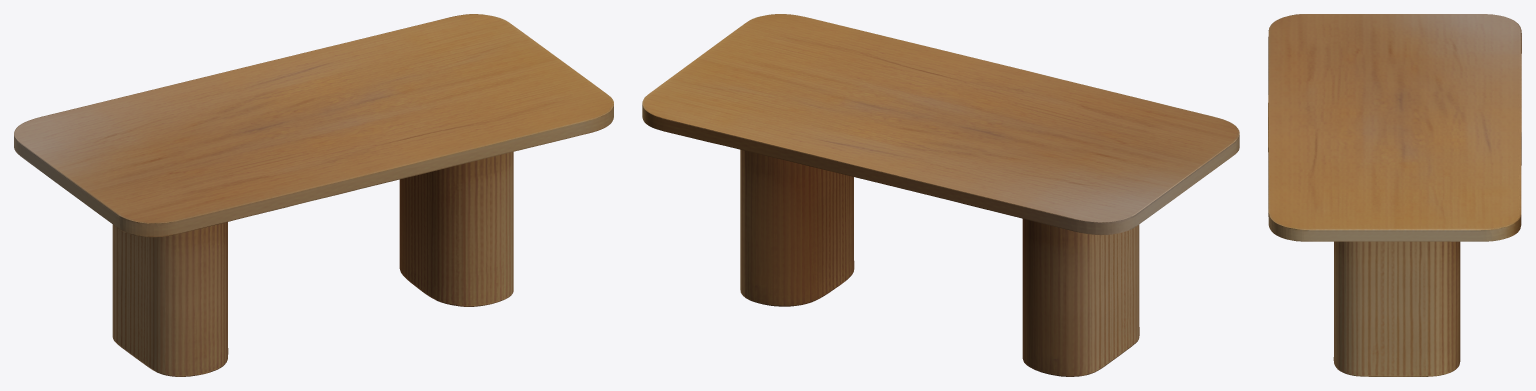
File: MESA DE COMEDOR KAMKO.glb
3 renders of one model, left to right at view 1: azimuth 30°, elevation 25°; view 2: azimuth 150°, elevation 25°; view 3: azimuth 270°, elevation 25°, orthographic. The views are drawn at different scales.
Parts seen in each view (by area): view 1: world; view 2: world; view 3: world.
Boxes of the visible parts, x1,y1,x2,y2 form: world: (14,14,613,376); world: (642,14,1239,376); world: (1268,14,1521,376).
Size of the model in its own units: 1 by 0.3826 by 0.4971.
1 material, 1 textured.
